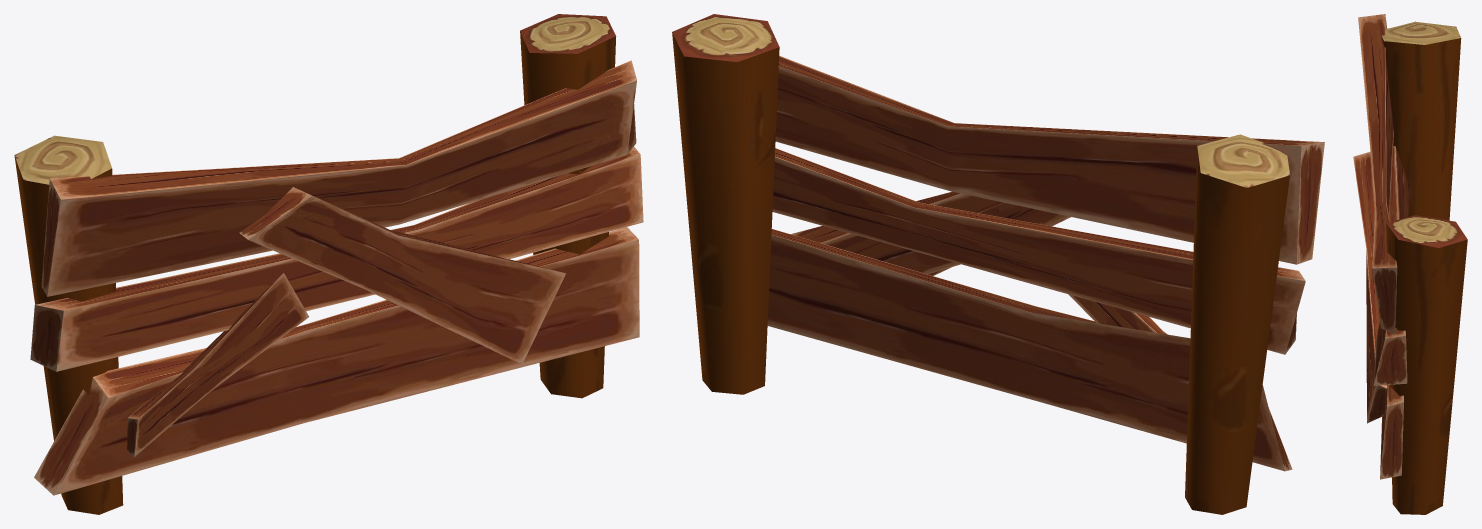
The model's file is SM_PROP_fence_v02_04.glb.
3 views of the same model, side by side, from view 1: azimuth 30°, elevation 25°; view 2: azimuth 150°, elevation 25°; view 3: azimuth 270°, elevation 25° (orthographic). The views are drawn at different scales.
Visible parts, largest first — view 1: SM_PROP_fence_v02_04_EXPORT; view 2: SM_PROP_fence_v02_04_EXPORT; view 3: SM_PROP_fence_v02_04_EXPORT.
Boxes of the visible parts, x1,y1,x2,y2 form: SM_PROP_fence_v02_04_EXPORT: (14,14,643,514); SM_PROP_fence_v02_04_EXPORT: (672,14,1324,514); SM_PROP_fence_v02_04_EXPORT: (1353,14,1467,514).
Bounding box in the file's own units: 2.08 × 1.17 × 0.4299.
3 materials, 3 textured.
